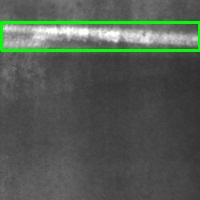scratches: (1, 22, 199, 50)
